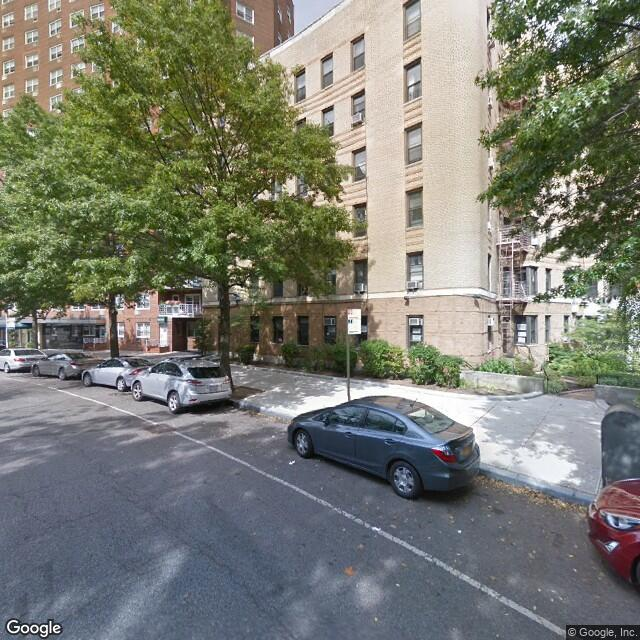litter: (228, 406, 245, 412), (286, 458, 298, 466), (456, 528, 465, 534), (392, 581, 402, 585), (566, 552, 572, 558), (268, 432, 276, 435), (532, 603, 535, 610)
